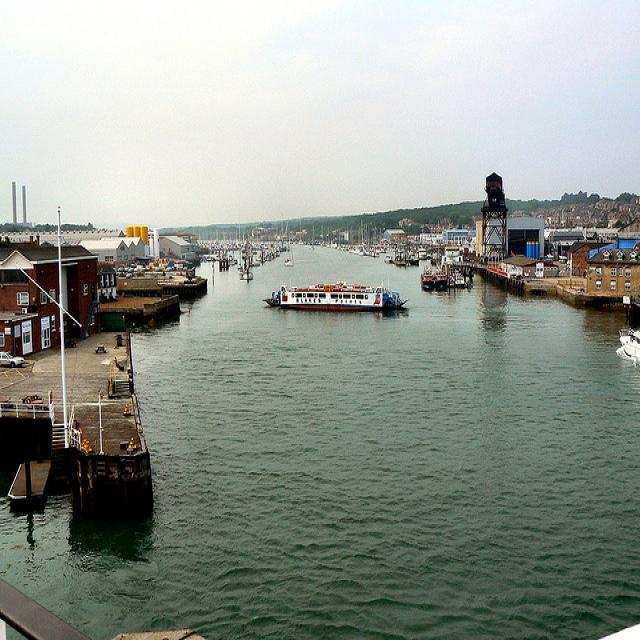Vehicle: (0, 351, 25, 367), (21, 393, 43, 403), (509, 270, 518, 276)
